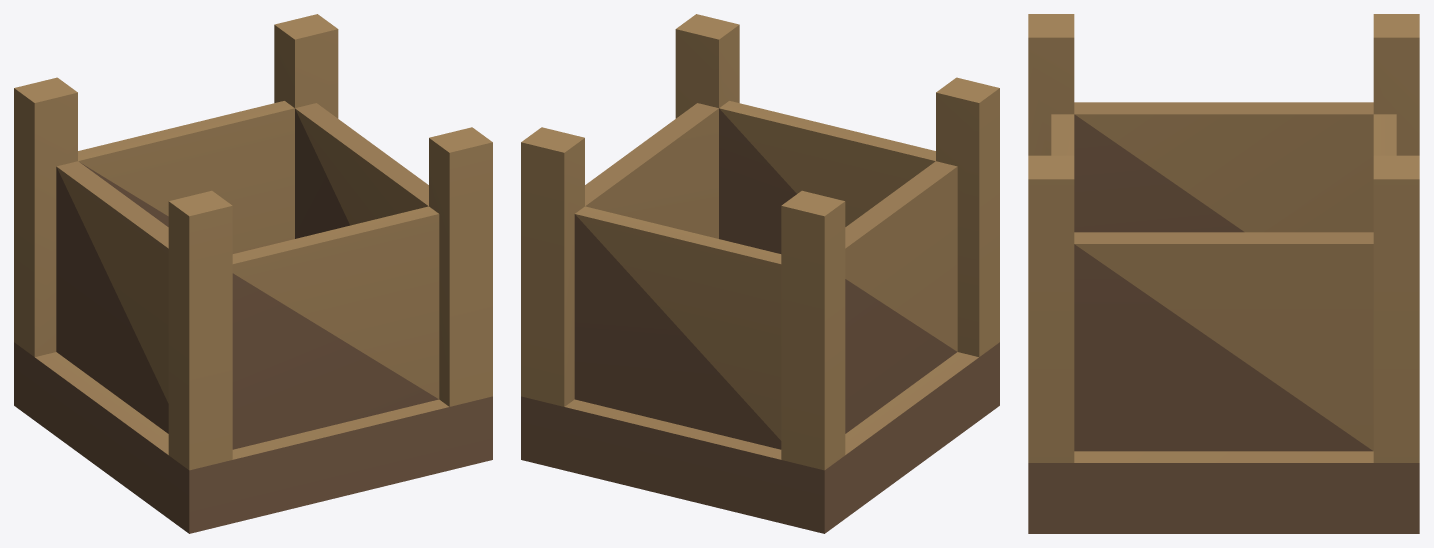
The model's file is crate.glb.
3 renders of one model, left to right at view 1: azimuth 30°, elevation 25°; view 2: azimuth 150°, elevation 25°; view 3: azimuth 270°, elevation 25°, orthographic. The views are drawn at different scales.
Parts seen in each view (by area): view 1: crate; view 2: crate; view 3: crate.
Boxes of the visible parts, x1,y1,x2,y2 form: crate: (14,14,492,533); crate: (521,14,999,533); crate: (1028,14,1419,533).
Size of the model in its own units: 0.85 by 0.85 by 0.85.
